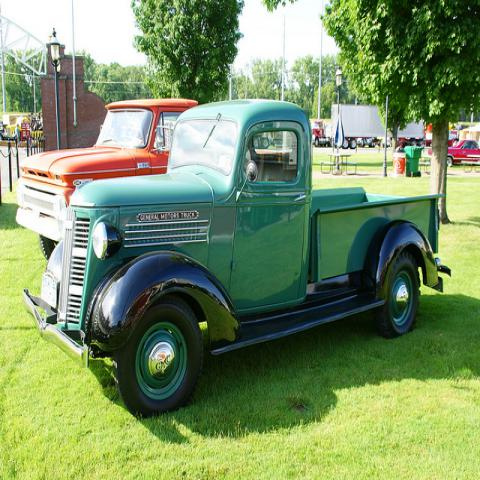car: (428, 139, 480, 167), (448, 130, 460, 146)
truck: (42, 98, 451, 423), (14, 97, 202, 261), (309, 102, 387, 150)
